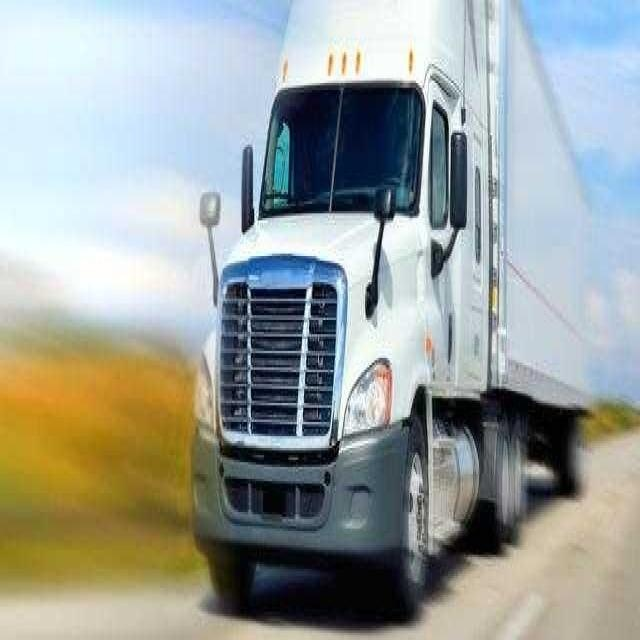Truck: (190, 0, 598, 640)
